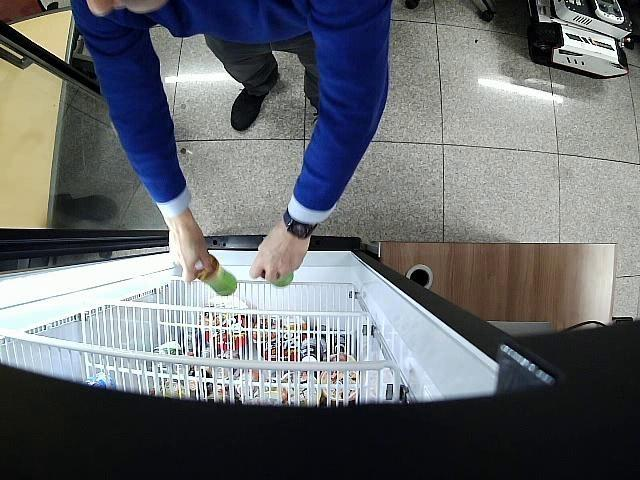19_17cha: (195, 253, 239, 296), (262, 268, 292, 287)
